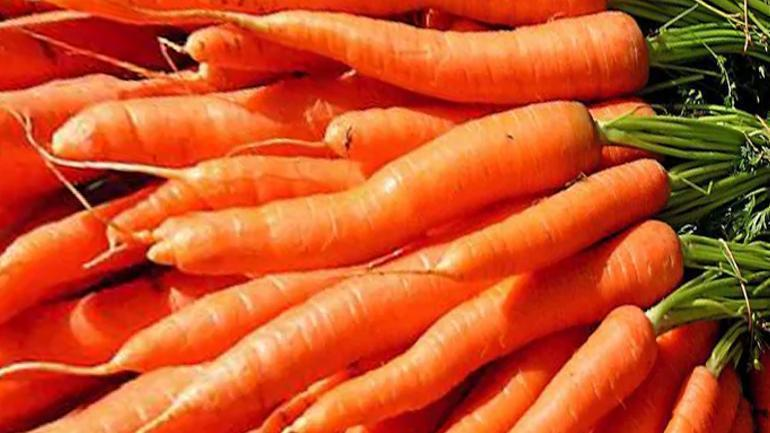carrot: (8, 6, 729, 433), (130, 175, 667, 424), (194, 14, 635, 176)
